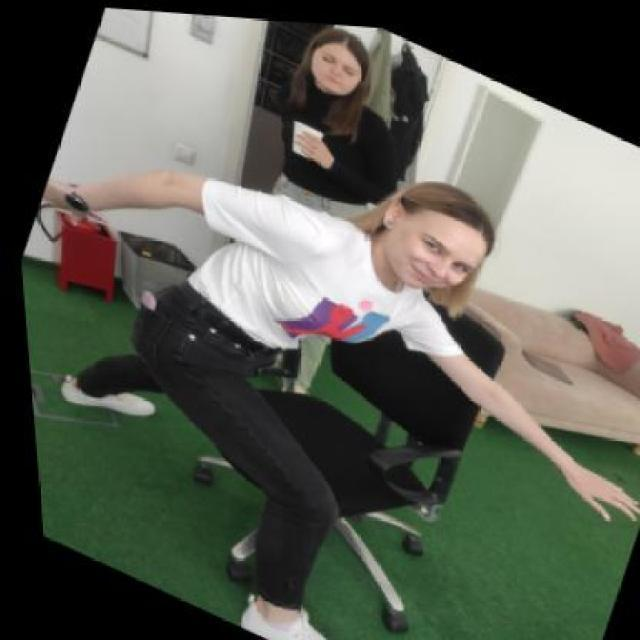chair: (194, 333, 476, 633)
